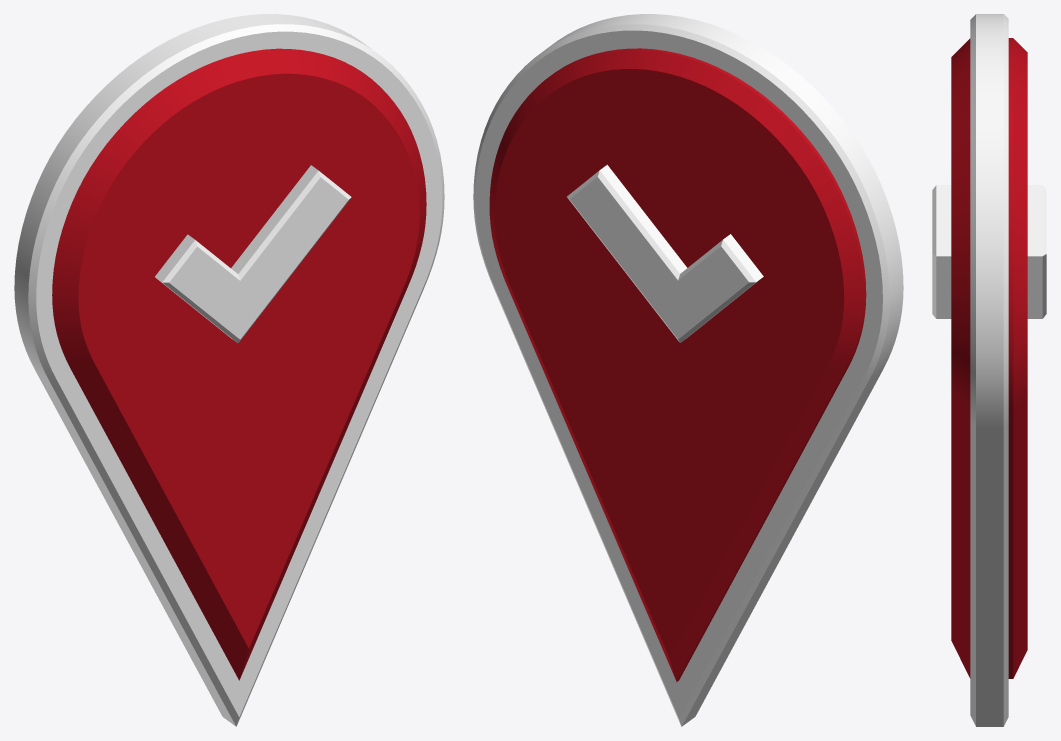
File: arrive_at_destination.glb
The picture shows the model from 3 angles, left to right: view 1: azimuth 30°, elevation 25°; view 2: azimuth 150°, elevation 25°; view 3: azimuth 270°, elevation 25°; orthographic projection.
Visible parts, largest first — view 1: Object_2; view 2: Object_2; view 3: Object_2.
Part boxes in pixels (x1,y1,x2,y2): Object_2: (14, 14, 444, 726); Object_2: (473, 14, 903, 726); Object_2: (932, 14, 1046, 726).
Bounding box in the file's own units: 6.25 × 10 × 1.5.
1 material, 1 textured.
